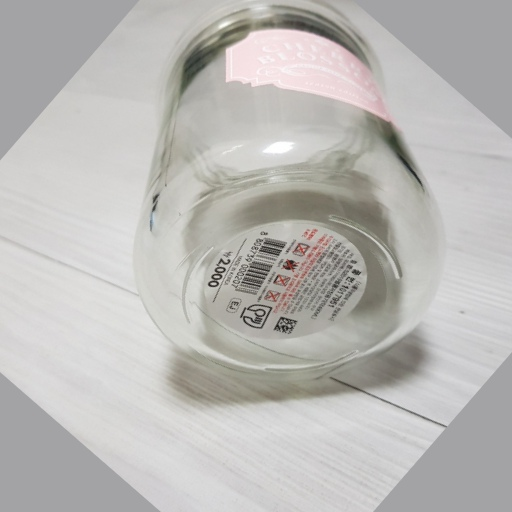Glass_5: (131, 1, 445, 368)
